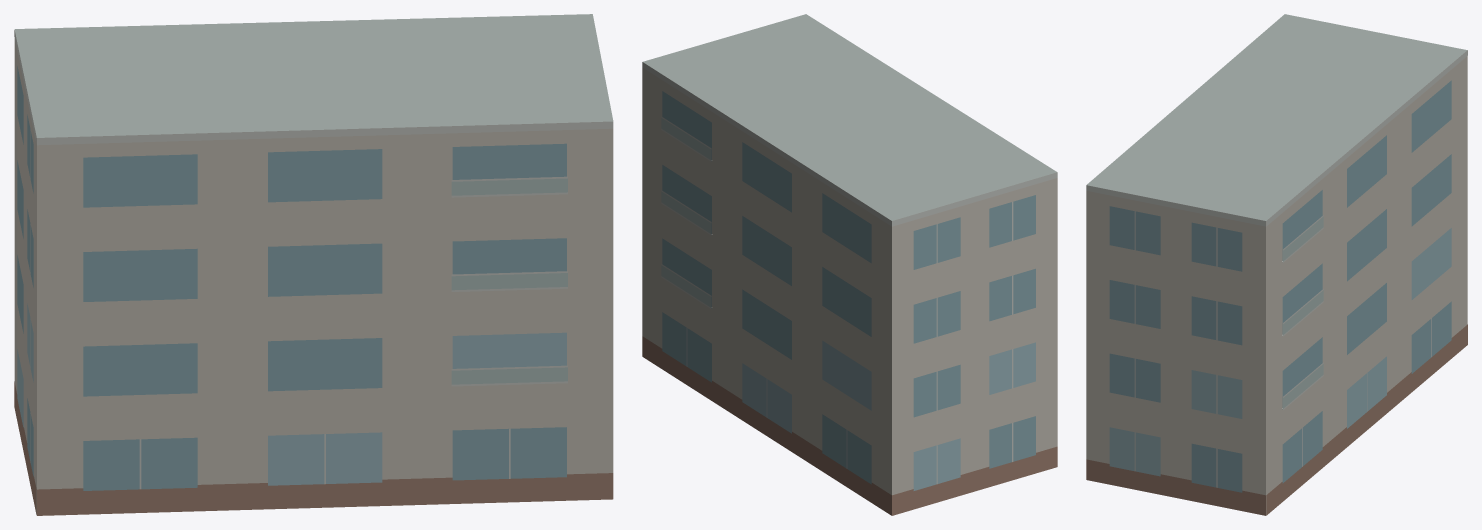
Rendered from survey-upis-32891800.glb.
The picture shows the model from 3 angles, left to right: view 1: azimuth 30°, elevation 25°; view 2: azimuth 150°, elevation 25°; view 3: azimuth 270°, elevation 25°; orthographic projection. The views are drawn at different scales.
Visible parts, largest first — view 1: survey-upis-32891800.tmp; view 2: survey-upis-32891800.tmp; view 3: survey-upis-32891800.tmp.
Boxes of the visible parts, x1=… form: survey-upis-32891800.tmp: x1=14, y1=14, x2=613, y2=515; survey-upis-32891800.tmp: x1=642, y1=14, x2=1057, y2=515; survey-upis-32891800.tmp: x1=1086, y1=14, x2=1467, y2=515.
Size of the model in its own units: 19.3 by 12.8 by 15.02.
